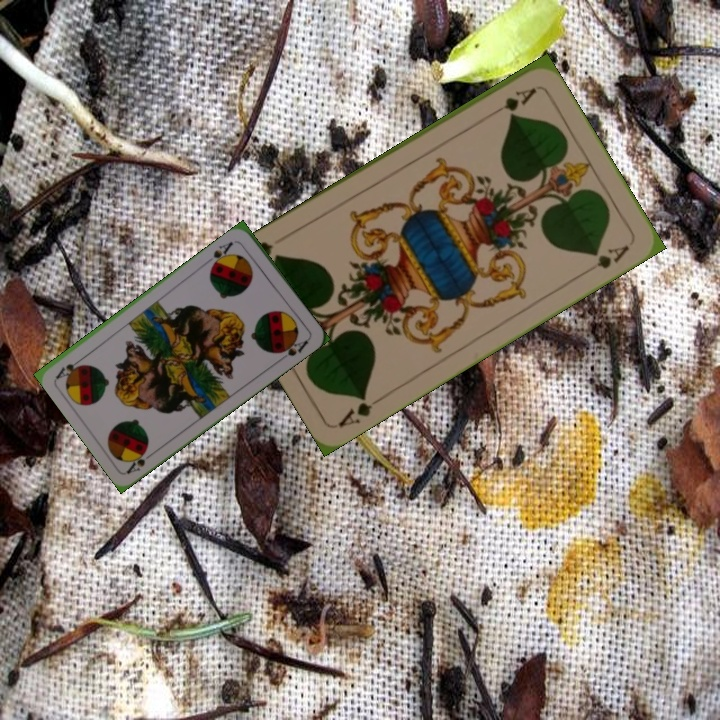GA: (334, 389, 387, 430), (485, 83, 539, 120)
SA: (123, 445, 159, 476), (207, 237, 239, 270)
